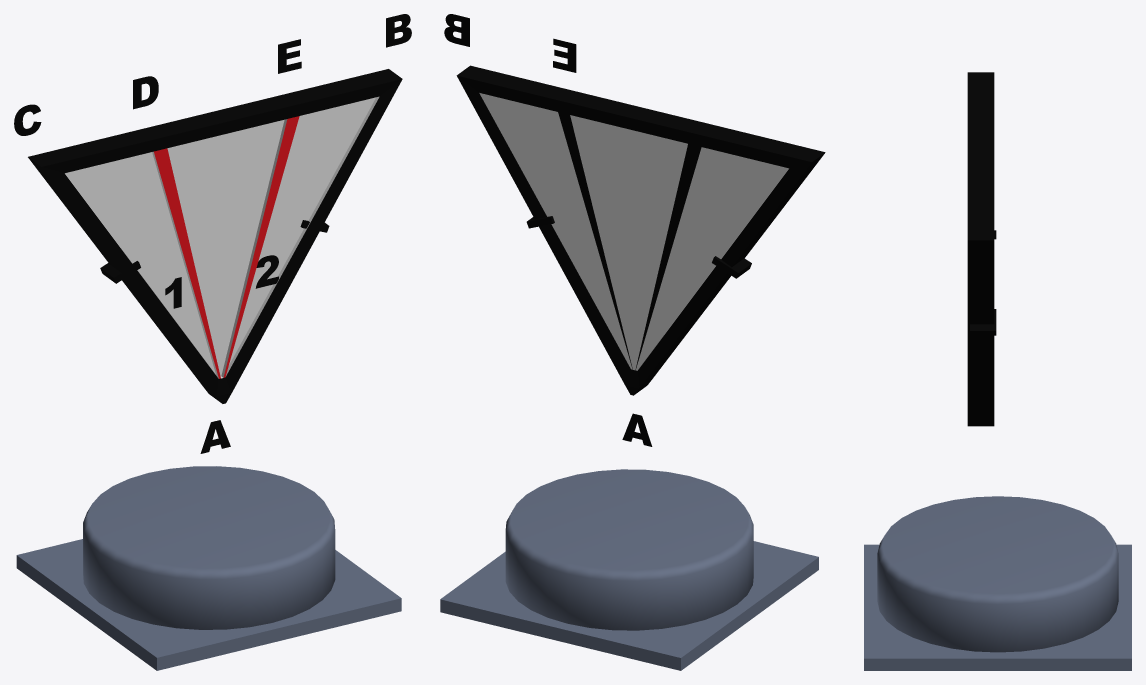
The picture shows the model from 3 angles, left to right: view 1: azimuth 30°, elevation 25°; view 2: azimuth 150°, elevation 25°; view 3: azimuth 270°, elevation 25°; orthographic projection. The views are drawn at different scales.
Parts seen in each view (by area): view 1: Cube.001, Cube, Text.004, Text.001; view 2: Cube.001, Cube, Text.004; view 3: Cube, Cube.001.
Boxes of the visible parts, x1=… form: Cube.001: x1=28, y1=69, x2=402, y2=403; Cube: x1=16, y1=466, x2=401, y2=670; Text.004: x1=386, y1=14, x2=411, y2=47; Text.001: x1=133, y1=76, x2=158, y2=109; Cube.001: x1=456, y1=65, x2=825, y2=395; Cube: x1=440, y1=469, x2=818, y2=670; Text.004: x1=444, y1=14, x2=469, y2=46; Cube: x1=864, y1=496, x2=1131, y2=670; Cube.001: x1=967, y1=72, x2=994, y2=426.
Size of the model in its own units: 14.86 by 19.13 by 9.09.
